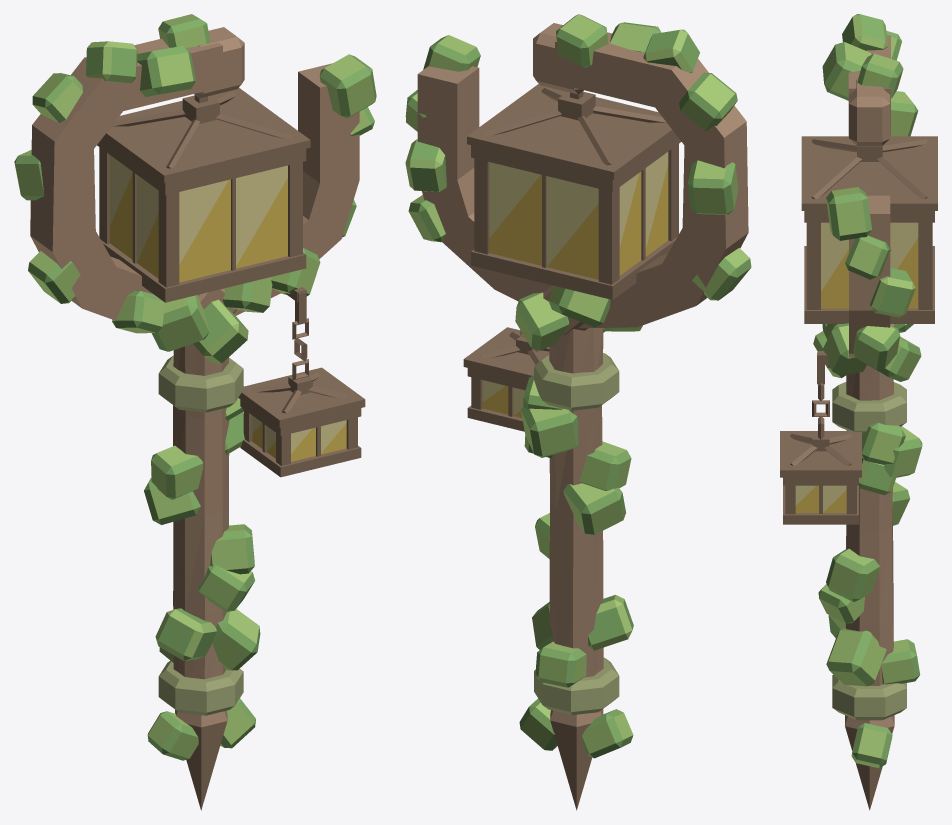
File: lantern_staff_roblox.glb
The picture shows the model from 3 angles, left to right: view 1: azimuth 30°, elevation 25°; view 2: azimuth 150°, elevation 25°; view 3: azimuth 270°, elevation 25°; orthographic projection. The views are drawn at different scales.
Visible parts, largest first — view 1: Gems, Staff, Leaves; view 2: Staff, Gems, Leaves; view 3: Leaves, Gems, Staff.
Boxes of the visible parts, x1=… form: Gems: x1=97, y1=88, x2=365, y2=477; Staff: x1=30, y1=27, x2=359, y2=810; Leaves: x1=14, y1=14, x2=376, y2=760; Staff: x1=417, y1=23, x2=748, y2=810; Gems: x1=463, y1=84, x2=681, y2=431; Leaves: x1=405, y1=14, x2=751, y2=758; Leaves: x1=813, y1=14, x2=922, y2=768; Gems: x1=780, y1=136, x2=937, y2=524; Staff: x1=832, y1=35, x2=906, y2=810.
Size of the model in its own units: 0.644 by 1.45 by 0.2755.
